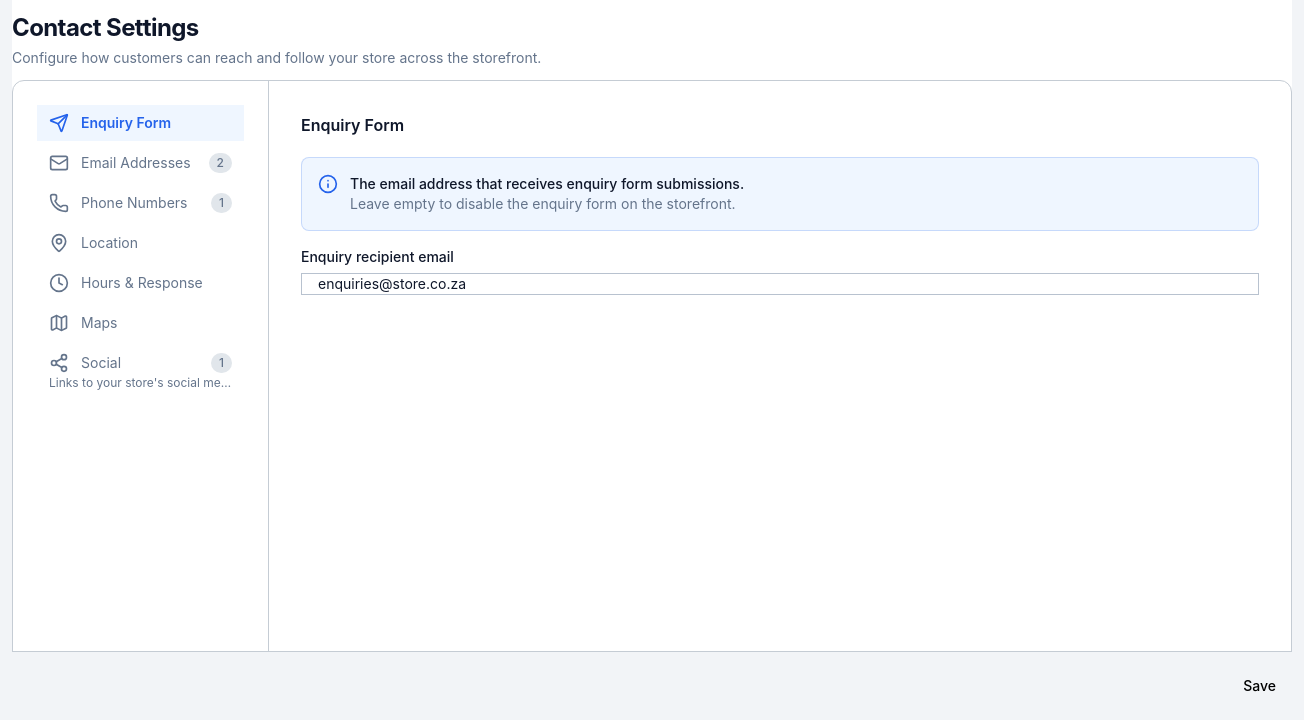
Test: ContactEditorPage › editor loads existing values once each section is selected › shows Hours & Response fields once that section is selected
The image size is (1304, 720).
Check: the field showing "enquiries@store.co.za" is shown, box [301,273,1259,295]
Click the tab "Hours & Response" at {"x": 140, "y": 283}, box [37,265,244,301]
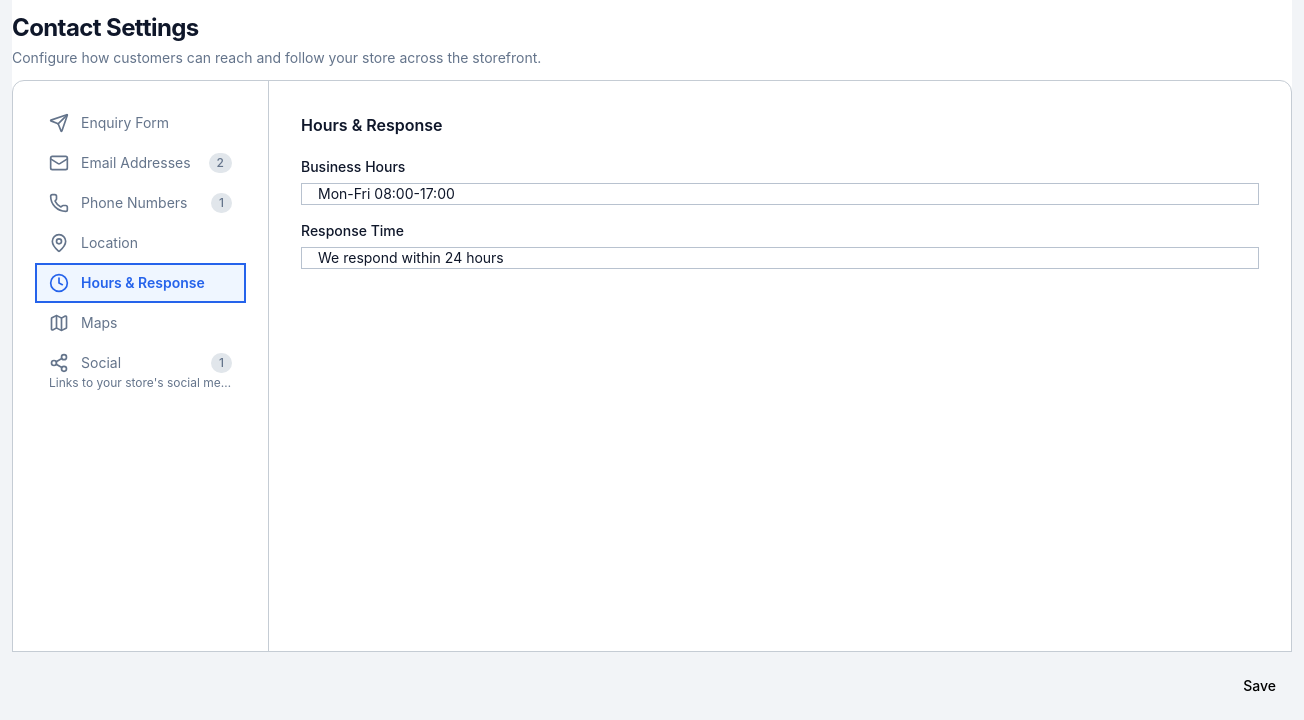
Check: the field showing "Mon-Fri 08:00-17:00" is shown, box [301,183,1259,205]
Check: the field showing "We respond within 24 hours" is shown, box [301,247,1259,269]
